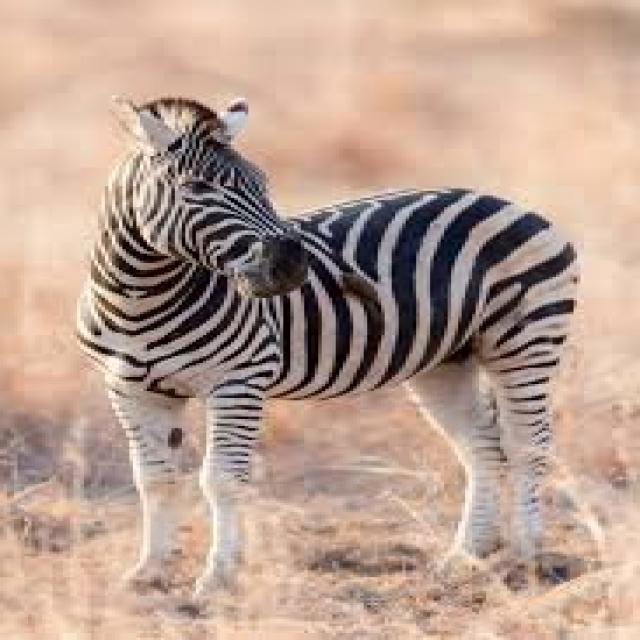zebra: (80, 98, 577, 582)
